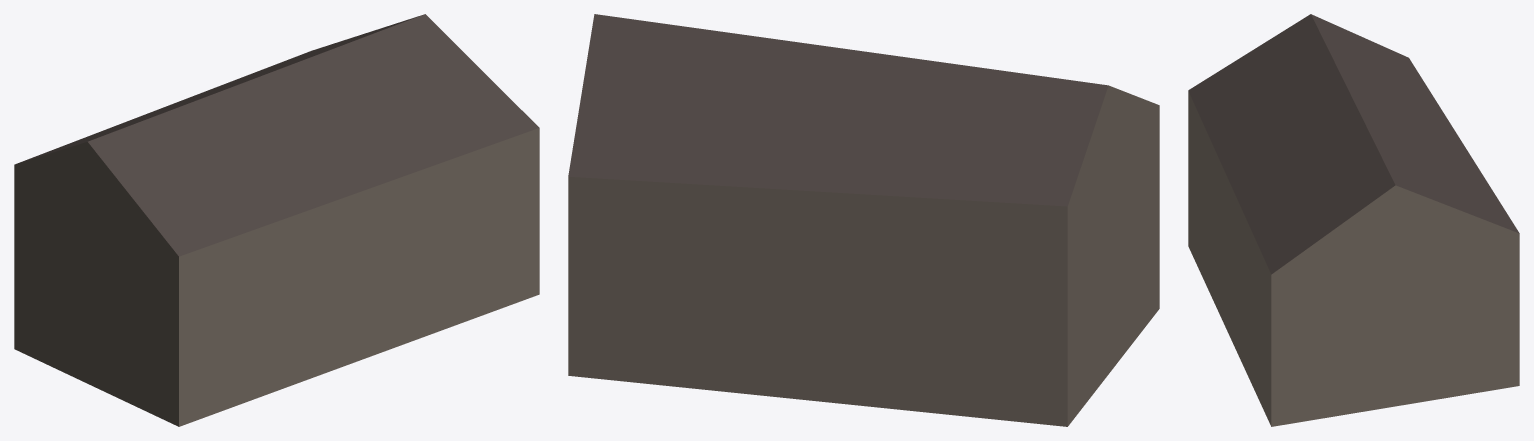
3 views of the same model, side by side, from view 1: azimuth 30°, elevation 25°; view 2: azimuth 150°, elevation 25°; view 3: azimuth 270°, elevation 25° (orthographic). The views are drawn at different scales.
Parts seen in each view (by area): view 1: HP-w1513026714; view 2: HP-w1513026714; view 3: HP-w1513026714.
Boxes of the visible parts, <box> form: HP-w1513026714: <box>14,14,539,426</box>; HP-w1513026714: <box>568,14,1159,426</box>; HP-w1513026714: <box>1188,14,1519,426</box>.
Size of the model in its own units: 16.94 by 8.71 by 11.84.
